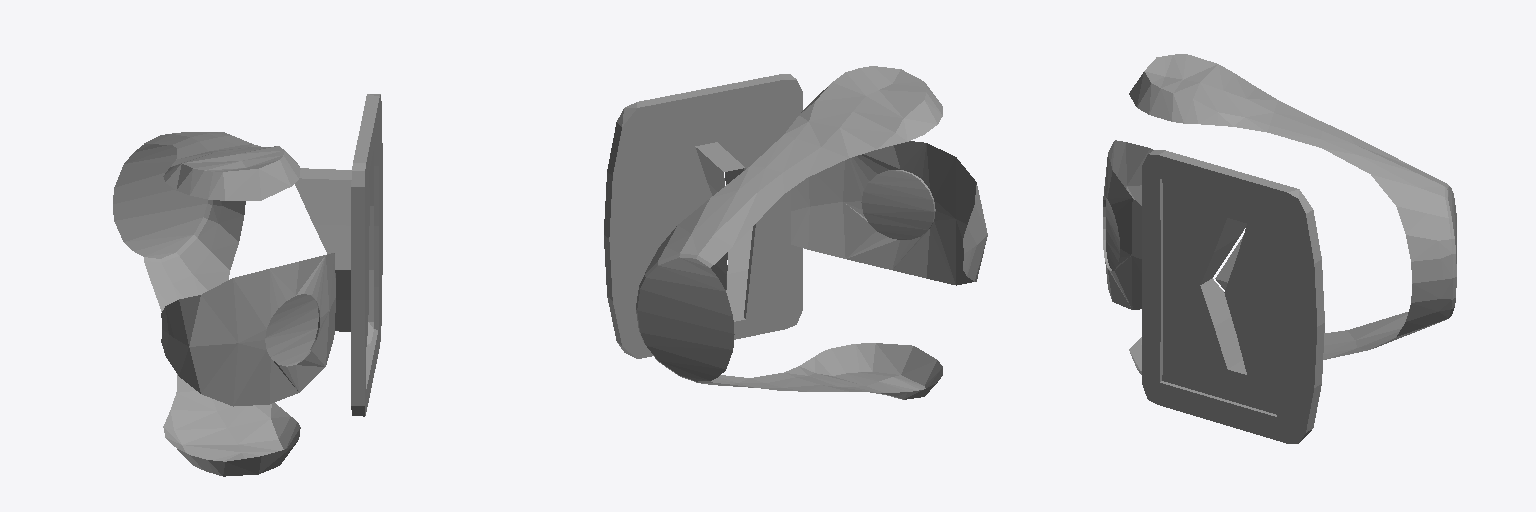
The model's file is Torso_shiny.obj.
The picture shows the model from 3 angles: view 1: azimuth 30°, elevation 25°; view 2: azimuth 150°, elevation 25°; view 3: azimuth 270°, elevation 25°; orthographic projection.
Size of the model in its own units: 2.92 by 2.93 by 3.07.